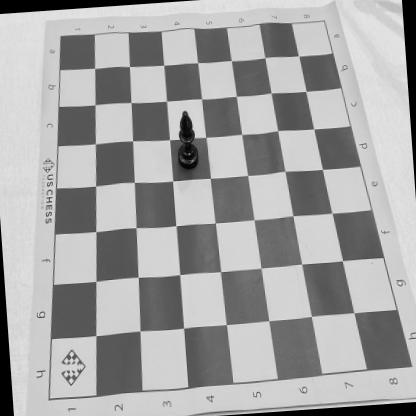bishop: (174, 110, 200, 170)
